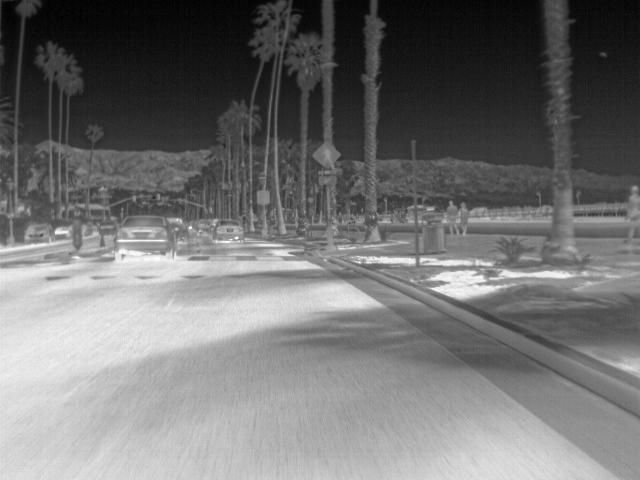car: (113, 214, 180, 255), (212, 216, 247, 240), (22, 221, 52, 246), (50, 224, 69, 239)
person: (624, 183, 639, 244), (456, 200, 472, 235), (443, 200, 457, 234)
